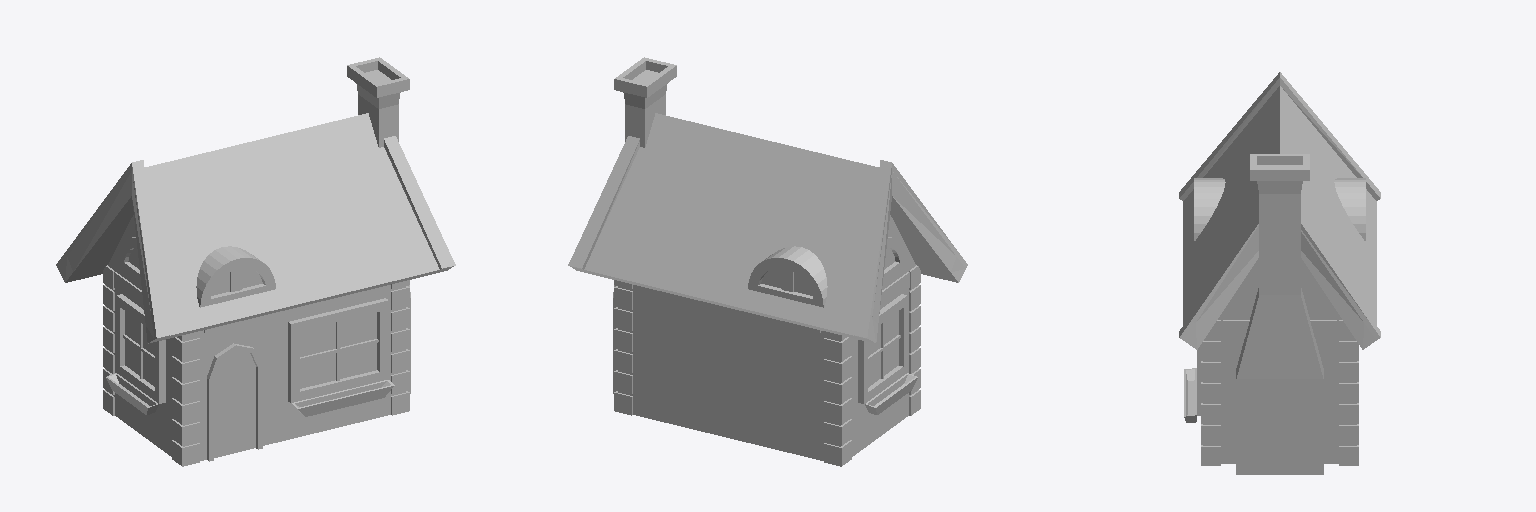
The model's file is house.obj.
3 views of the same model, side by side, from view 1: azimuth 30°, elevation 25°; view 2: azimuth 150°, elevation 25°; view 3: azimuth 270°, elevation 25° (orthographic).
Visible parts, largest first — view 1: House_Roof, polySurface1 House_Walls House_Hull, Window_AND_Container House_Window, House_Doorframe, Window_AND_Container_Front House_Window, Window_Round1, House_Chimney, Window_Container Window_AND_Container, Window_Container Window_AND_Container_Front, Wall_Block_Front, Corner_Blocks House_Cornerblocks4, Corner_Blocks House_Cornerblocks3 (+4 smaller); view 2: House_Roof, polySurface1 House_Walls House_Hull, Window_AND_Container_Front House_Window, Window_Round2, House_Chimney, Window_Container Window_AND_Container_Front, Corner_Blocks House_Cornerblocks13 group1, Corner_Blocks group1 House_Cornerblocks12, Corner_Blocks group1 House_Cornerblocks11, Corner_Blocks group1 House_Cornerblocks10, Corner_Blocks group1 House_Cornerblocks9, Corner_Blocks group1 House_Cornerblocks8; view 3: House_Roof, House_Chimney, polySurface1 House_Walls House_Hull, Window_Round1, Window_Round2, Wall_Block_Side_2, Window_Container Window_AND_Container.
Part boxes in pixels (left/top/right/bottom): House_Roof: left=56, top=113, right=455, bottom=343; polySurface1 House_Walls House_Hull: left=106, top=215, right=405, bottom=460; Window_AND_Container House_Window: left=288, top=298, right=388, bottom=402; House_Doorframe: left=207, top=343, right=262, bottom=461; Window_AND_Container_Front House_Window: left=116, top=294, right=165, bottom=403; Window_Round1: left=196, top=246, right=275, bottom=307; House_Chimney: left=347, top=57, right=410, bottom=393; Window_Container Window_AND_Container: left=292, top=380, right=394, bottom=416; Window_Container Window_AND_Container_Front: left=106, top=373, right=158, bottom=414; Wall_Block_Front: left=204, top=285, right=389, bottom=332; Corner_Blocks House_Cornerblocks4: left=172, top=356, right=199, bottom=382; Corner_Blocks House_Cornerblocks3: left=172, top=377, right=199, bottom=403; House_Roof: left=568, top=113, right=967, bottom=343; polySurface1 House_Walls House_Hull: left=618, top=215, right=917, bottom=460; Window_AND_Container_Front House_Window: left=858, top=294, right=907, bottom=403; Window_Round2: left=748, top=246, right=827, bottom=307; House_Chimney: left=613, top=57, right=676, bottom=393; Window_Container Window_AND_Container_Front: left=865, top=373, right=917, bottom=414; Corner_Blocks House_Cornerblocks13 group1: left=824, top=440, right=851, bottom=466; Corner_Blocks group1 House_Cornerblocks12: left=824, top=419, right=851, bottom=445; Corner_Blocks group1 House_Cornerblocks11: left=824, top=398, right=851, bottom=424; Corner_Blocks group1 House_Cornerblocks10: left=824, top=377, right=851, bottom=403; Corner_Blocks group1 House_Cornerblocks9: left=824, top=356, right=851, bottom=382; Corner_Blocks group1 House_Cornerblocks8: left=824, top=337, right=851, bottom=361; House_Roof: left=1179, top=72, right=1380, bottom=349; House_Chimney: left=1236, top=154, right=1323, bottom=474; polySurface1 House_Walls House_Hull: left=1203, top=258, right=1356, bottom=463; Window_Round1: left=1194, top=178, right=1225, bottom=240; Window_Round2: left=1334, top=178, right=1365, bottom=240; Wall_Block_Side_2: left=1223, top=320, right=1336, bottom=336; Window_Container Window_AND_Container: left=1184, top=368, right=1196, bottom=422.
Size of the model in its own units: 6.71 by 6.6 by 3.91.